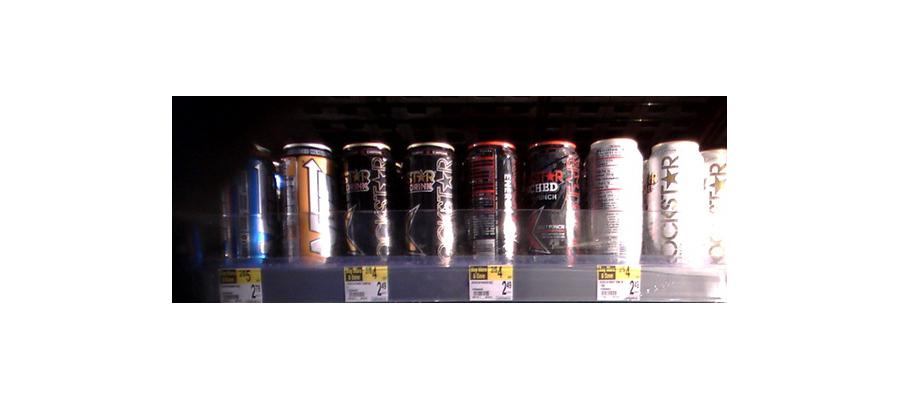bottle: (649, 139, 708, 273), (586, 139, 645, 272), (460, 141, 518, 266), (524, 143, 580, 263), (278, 141, 333, 263), (401, 144, 455, 266), (338, 143, 393, 259), (222, 140, 271, 270)
